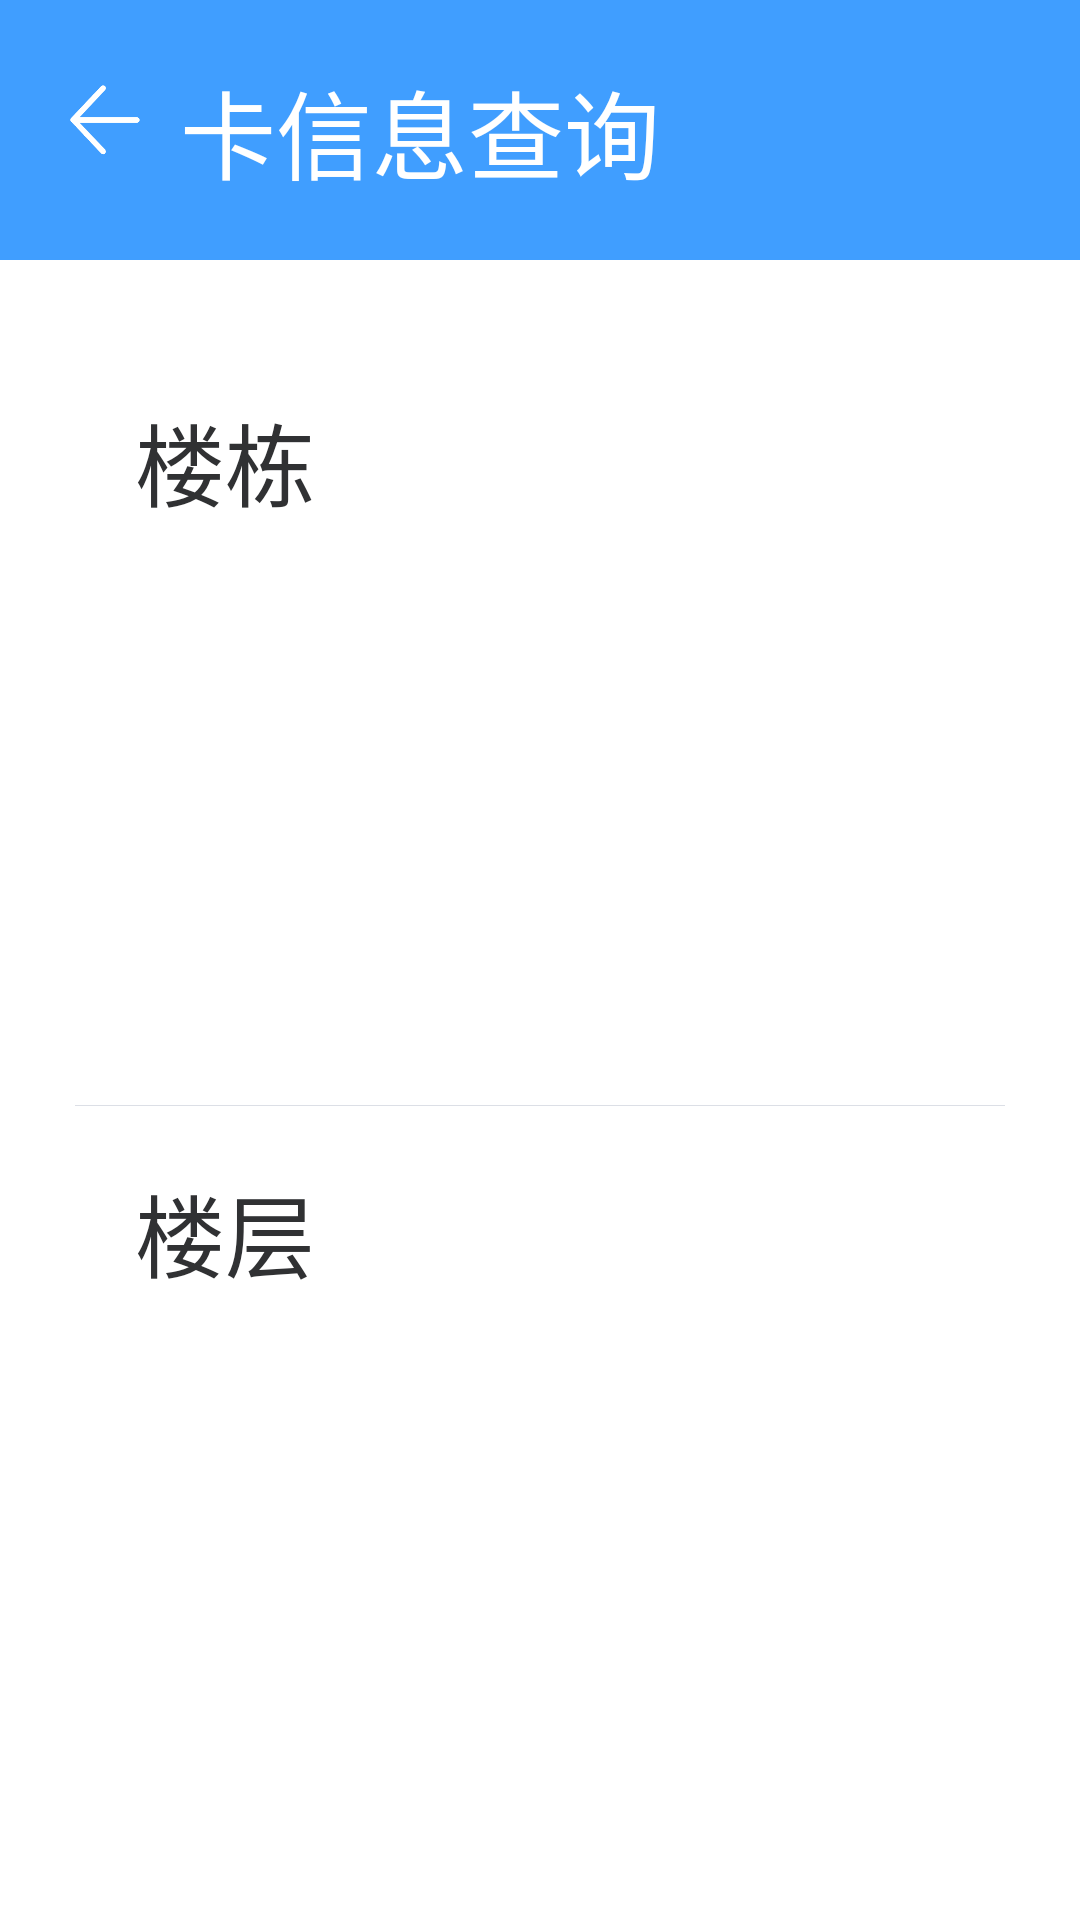

Icons on this 1080px×1920px Android screen, each with its box as (x1, y1, x2, y2):
direction left: (70, 85, 140, 154)
